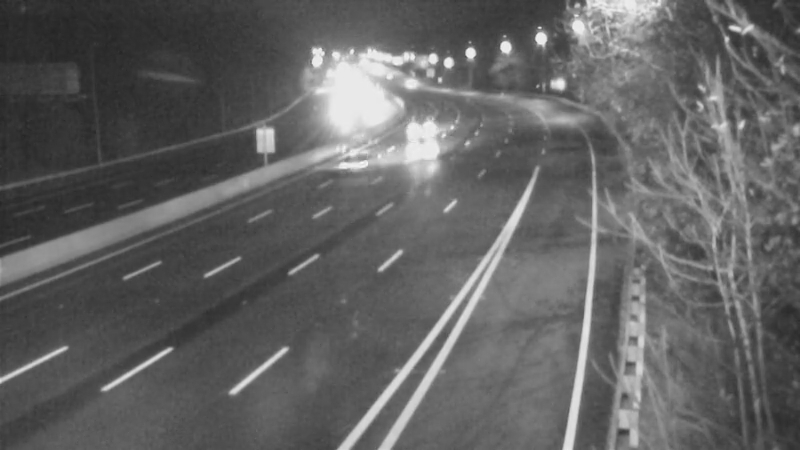vehicle: (313, 119, 393, 199), (388, 59, 438, 109), (399, 100, 449, 150), (401, 125, 451, 175)
